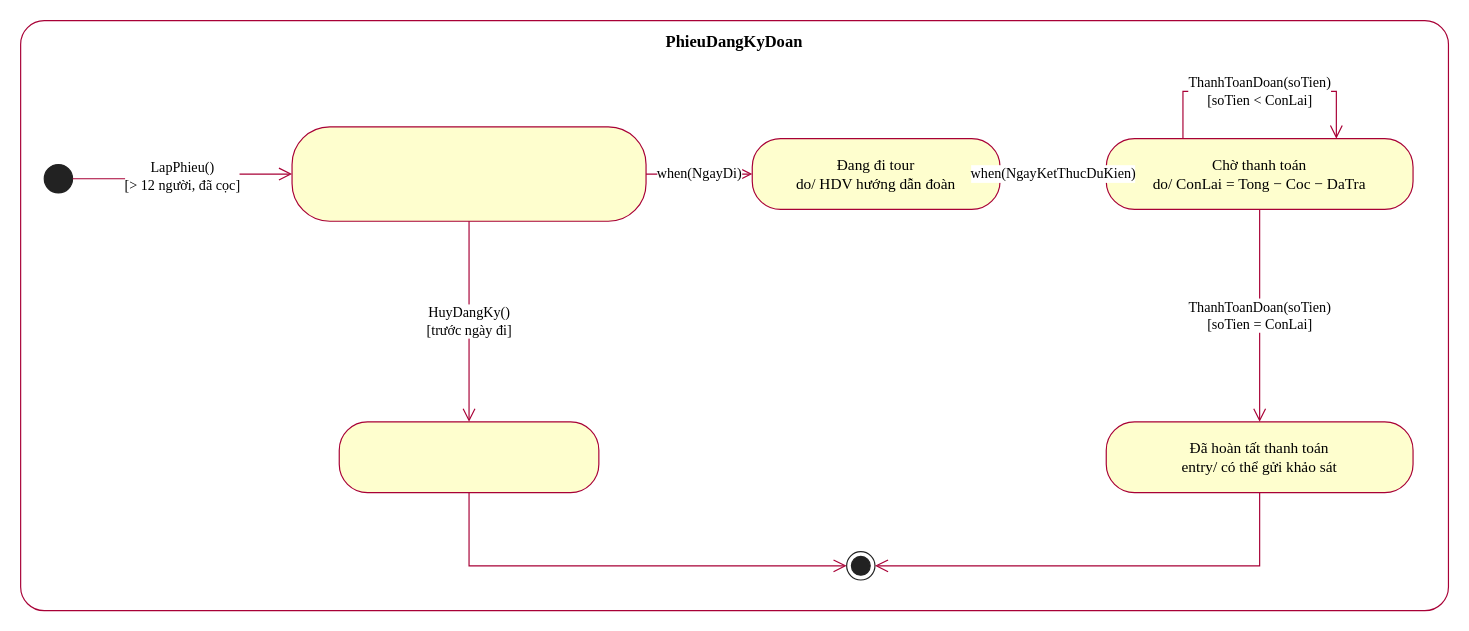
This 1469x631 diagram has some shape labels left out. Each missing label, with the centre of its shape:
"Hủy – mất cọc entry/ gỡ phân công HDV" goes at (x=468, y=457).
"Đã đăng ký entry/ lưu phiếu, tiền cọc, NgayKetThucDuKien = NgayDi + SoNgay − 1" goes at (x=468, y=173).
